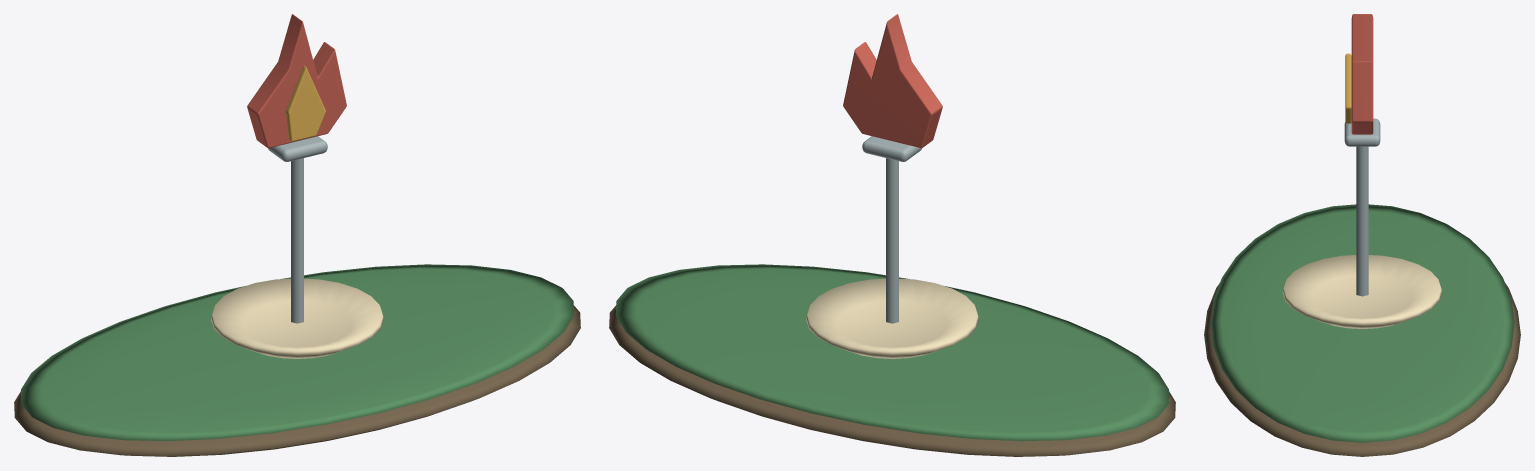
Rendered from fire-lamp.glb.
The picture shows the model from 3 angles, left to right: view 1: azimuth 30°, elevation 25°; view 2: azimuth 150°, elevation 25°; view 3: azimuth 270°, elevation 25°; orthographic projection. The views are drawn at different scales.
Visible parts, largest first — view 1: fire-lamp_surface_01, fire-lamp_surface_05, fire-lamp_surface_00, fire-lamp_surface_02, fire-lamp_surface_04, fire-lamp_surface_03; view 2: fire-lamp_surface_01, fire-lamp_surface_05, fire-lamp_surface_00, fire-lamp_surface_02, fire-lamp_surface_04; view 3: fire-lamp_surface_01, fire-lamp_surface_05, fire-lamp_surface_00, fire-lamp_surface_02, fire-lamp_surface_04, fire-lamp_surface_03.
Part boxes in pixels (x1,y1,x2,y2): fire-lamp_surface_01: (21, 264, 573, 441); fire-lamp_surface_05: (211, 278, 383, 358); fire-lamp_surface_00: (14, 305, 580, 456); fire-lamp_surface_02: (247, 14, 346, 148); fire-lamp_surface_04: (268, 136, 327, 323); fire-lamp_surface_03: (286, 65, 325, 141); fire-lamp_surface_01: (616, 264, 1168, 441); fire-lamp_surface_05: (806, 278, 978, 358); fire-lamp_surface_00: (609, 305, 1175, 456); fire-lamp_surface_02: (843, 14, 942, 148); fire-lamp_surface_04: (862, 136, 921, 323); fire-lamp_surface_01: (1210, 204, 1514, 442); fire-lamp_surface_05: (1282, 255, 1442, 328); fire-lamp_surface_00: (1204, 283, 1520, 456); fire-lamp_surface_02: (1351, 14, 1373, 134); fire-lamp_surface_04: (1344, 118, 1380, 296); fire-lamp_surface_03: (1345, 53, 1351, 123).
Bounding box in the file's own units: 4.56 × 2.92 × 2.5.
